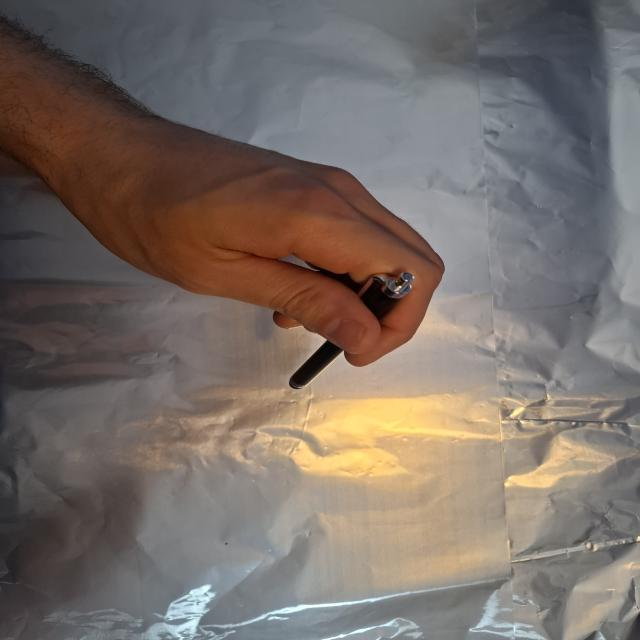glove_off: (60, 128, 447, 369)
